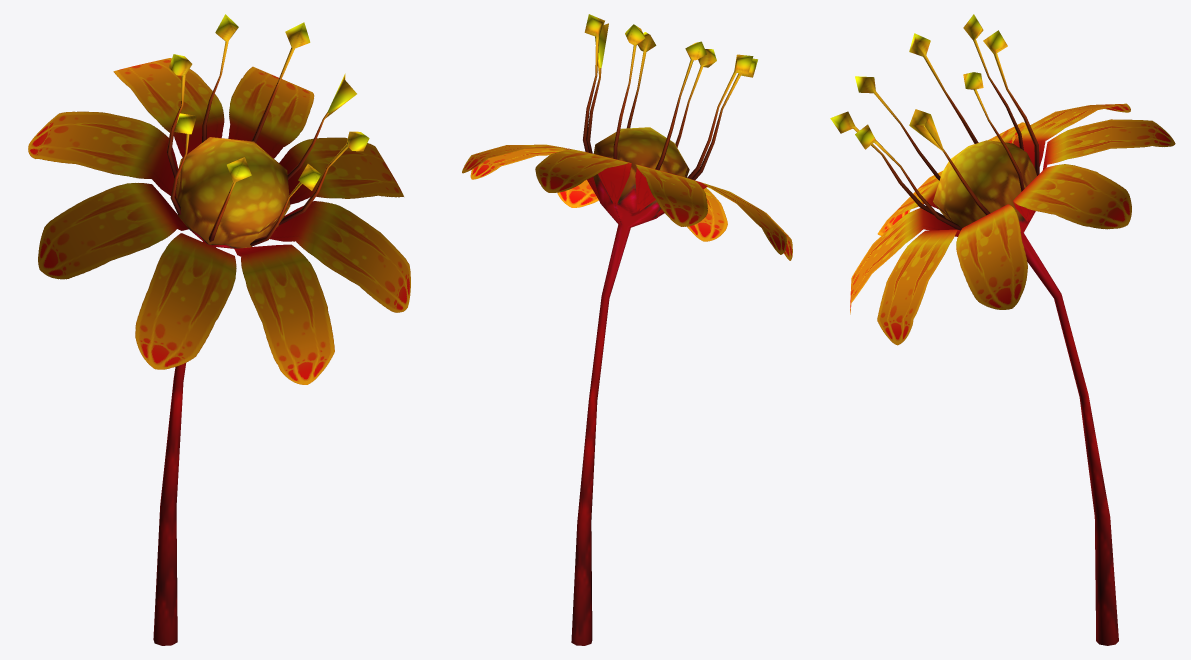
The model's file is Red_Flower_02a.FBX.
3 renders of one model, left to right at view 1: azimuth 30°, elevation 25°; view 2: azimuth 150°, elevation 25°; view 3: azimuth 270°, elevation 25°, orthographic. The views are drawn at different scales.
Parts seen in each view (by area): view 1: Red_Flower_02a; view 2: Red_Flower_02a; view 3: Red_Flower_02a.
Boxes of the visible parts, x1,y1,x2,y2 form: Red_Flower_02a: (28,14,410,645); Red_Flower_02a: (462,14,792,645); Red_Flower_02a: (830,14,1175,645).
Bounding box in the file's own units: 44.79 × 80.02 × 41.14.
